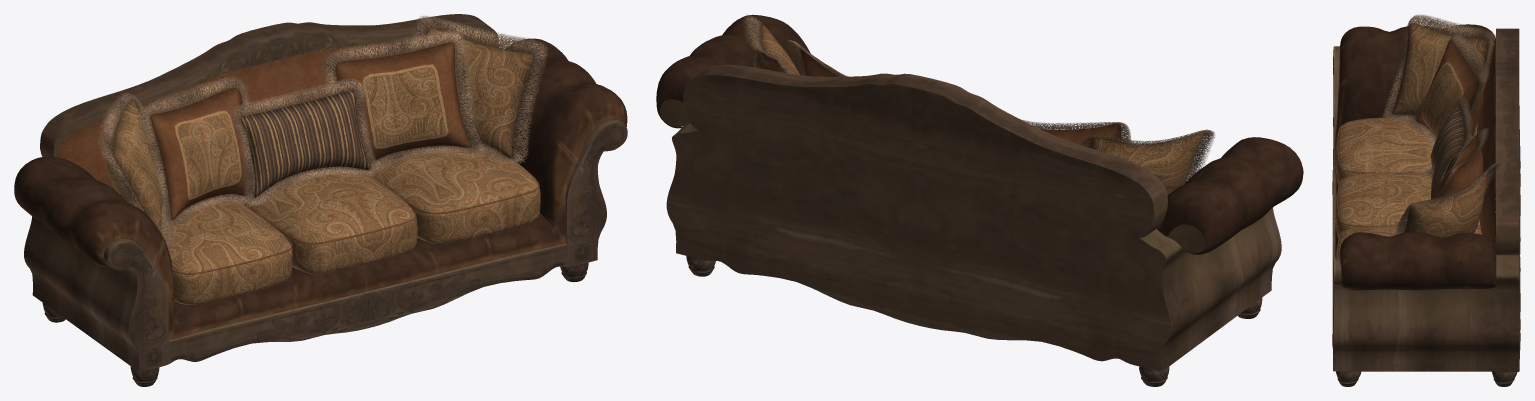
File: sofa-leather.glb
3 renders of one model, left to right at view 1: azimuth 30°, elevation 25°; view 2: azimuth 150°, elevation 25°; view 3: azimuth 270°, elevation 25°, orthographic. The views are drawn at different scales.
Parts seen in each view (by area): view 1: Frame, Paisley, Fringe, Brown, Stripes, Frame_Fabric; view 2: Frame, Paisley, Fringe, Brown; view 3: Frame, Paisley, Fringe, Brown, Frame_Fabric, Stripes.
Part boxes in pixels (x1=…): Frame: x1=14, y1=14, x2=627, y2=386; Paisley: x1=107, y1=27, x2=540, y2=304; Fringe: x1=98, y1=16, x2=547, y2=246; Brown: x1=150, y1=42, x2=539, y2=274; Stripes: x1=174, y1=64, x2=448, y2=199; Frame_Fabric: x1=57, y1=34, x2=494, y2=189; Frame: x1=656, y1=14, x2=1303, y2=386; Paisley: x1=754, y1=23, x2=1204, y2=194; Fringe: x1=743, y1=15, x2=1214, y2=182; Brown: x1=800, y1=46, x2=1121, y2=147; Frame: x1=1332, y1=24, x2=1520, y2=386; Paisley: x1=1335, y1=23, x2=1487, y2=257; Fringe: x1=1382, y1=14, x2=1499, y2=235; Brown: x1=1336, y1=40, x2=1483, y2=257; Frame_Fabric: x1=1477, y1=39, x2=1495, y2=245; Stripes: x1=1422, y1=61, x2=1472, y2=198.
Bounding box in the file's own units: 2.73 × 1.12 × 0.9232.
Materials: 6 (6 with a texture image).
